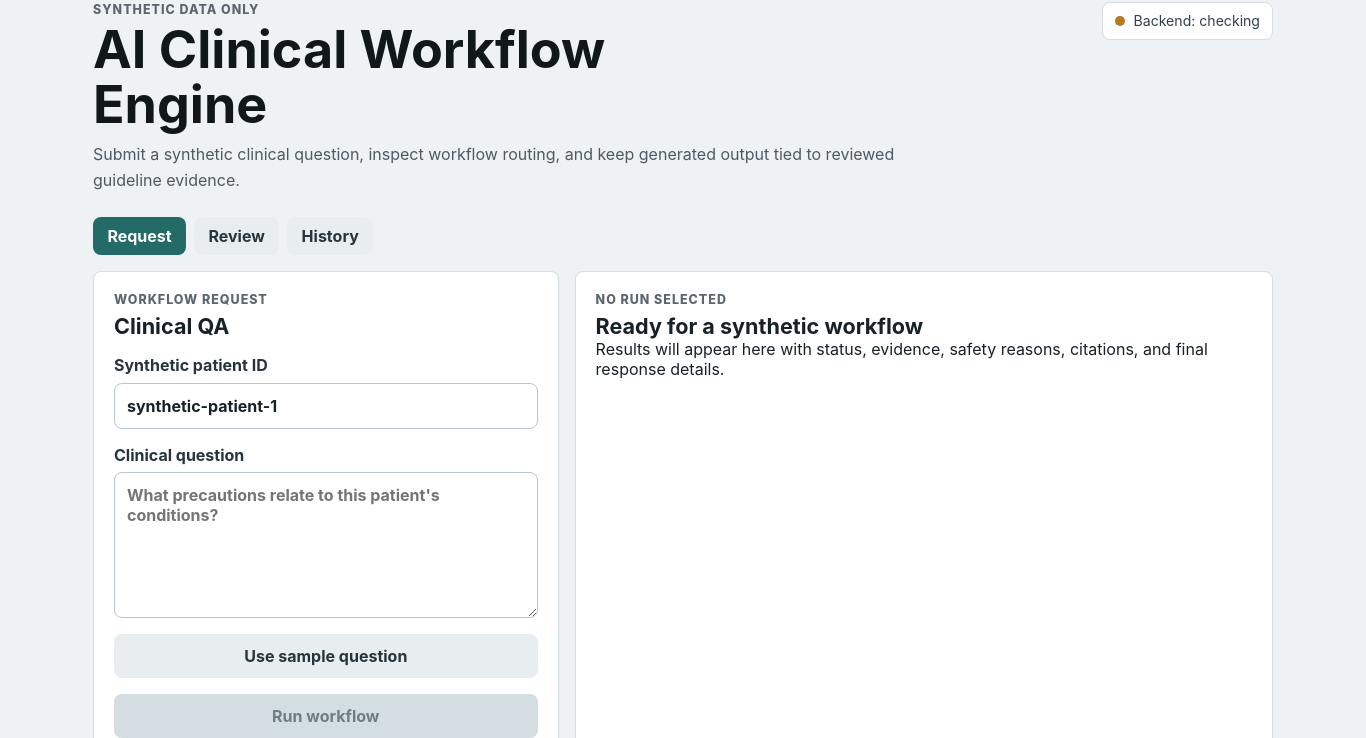
Test: App › shows stale review action errors safely
Click the button "Review".
click(237, 236)  # box [194, 217, 279, 255]
(page scrolled)
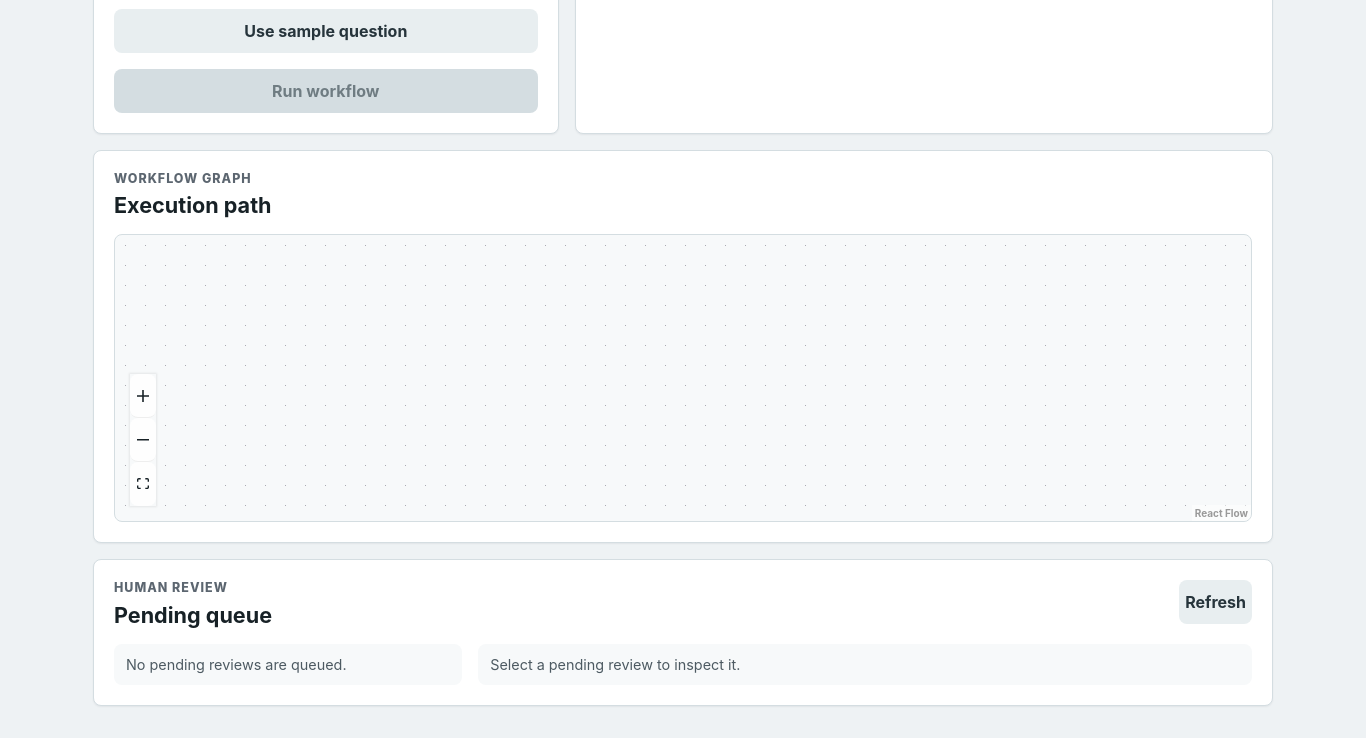
Click the button "Refresh".
click(1216, 602)  # box [1179, 580, 1252, 624]
(page scrolled)
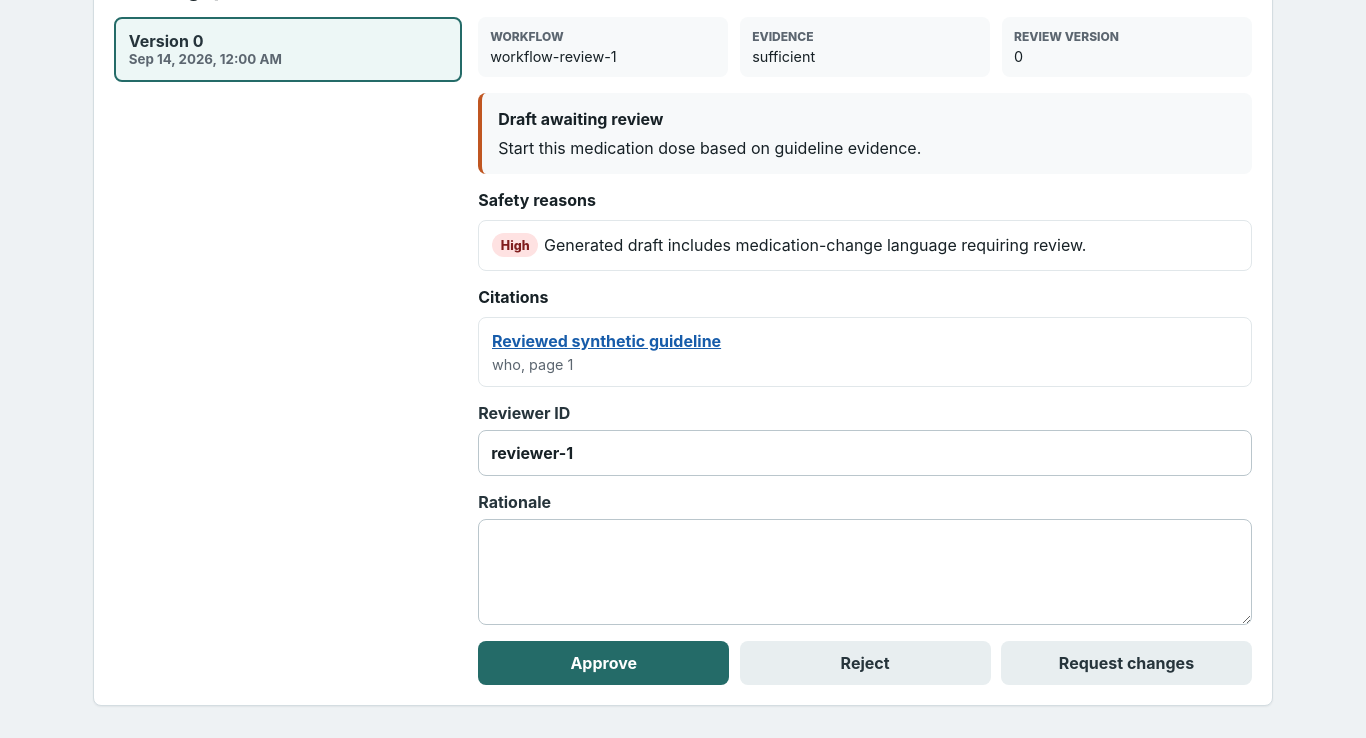
Expected: the text "Version 0" is shown, [129, 31, 204, 51]
Type "Synthetic reviewer approval." into the text box labelled "Rationale".
click(865, 572); type("Synthetic reviewer approval.")  # box [478, 519, 1252, 625]
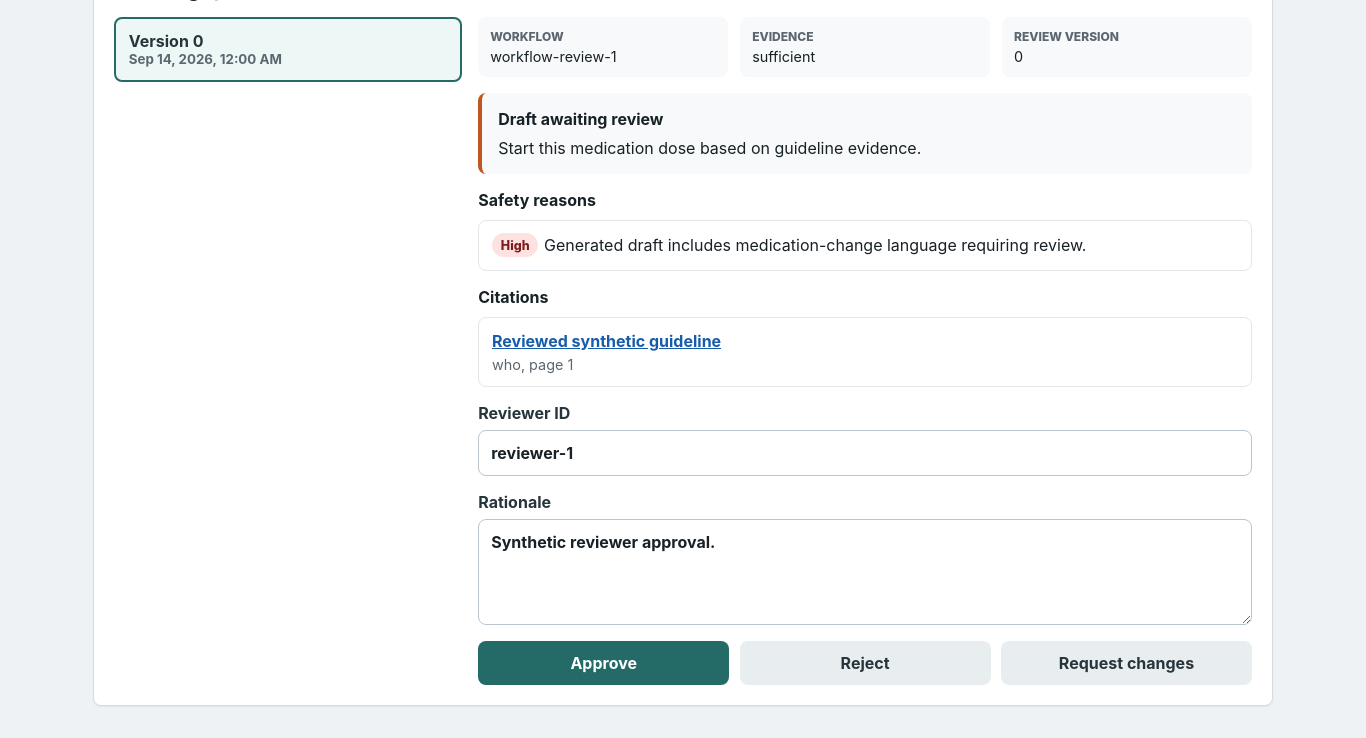
Click the button "Approve".
click(604, 663)  # box [478, 641, 729, 685]
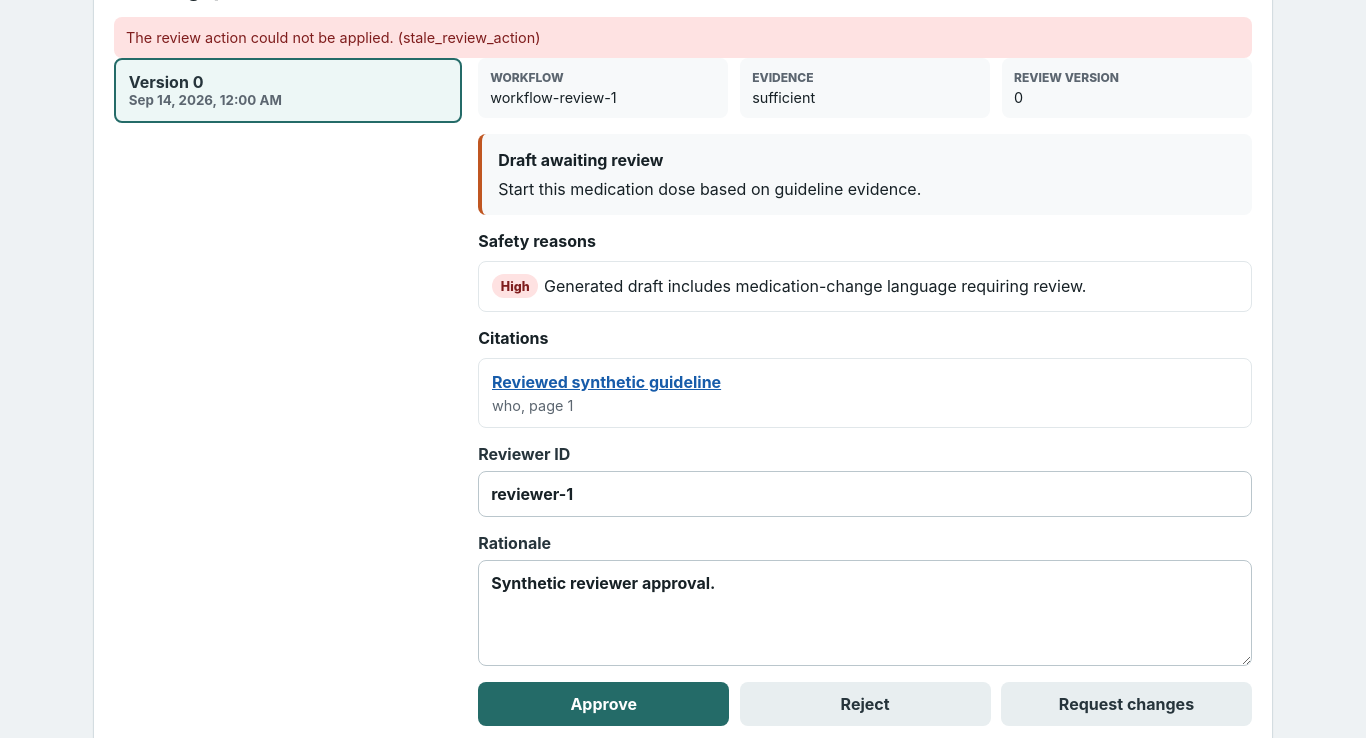
Expected: the message shows "stale_review_action", [126, 28, 540, 46]
